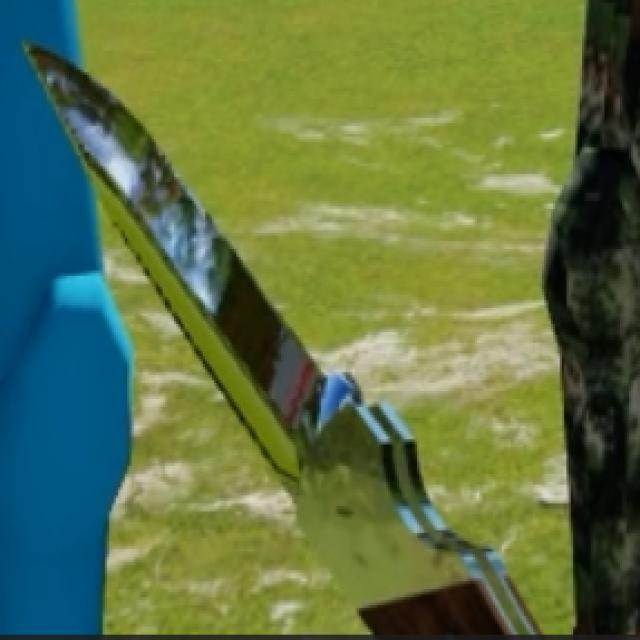knife: (14, 23, 556, 640)
